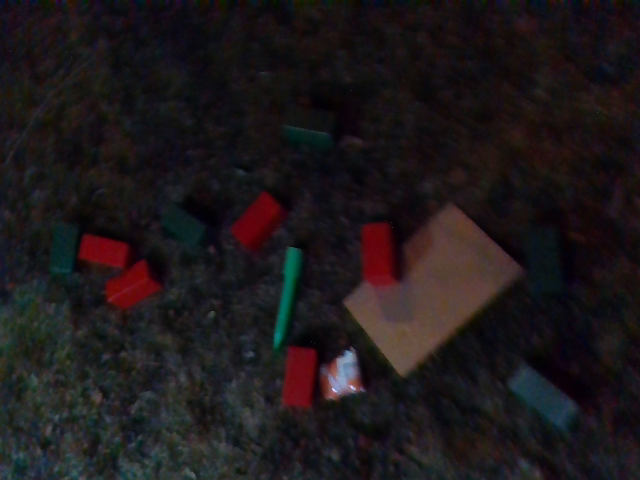Probe: (264, 240, 304, 350)
